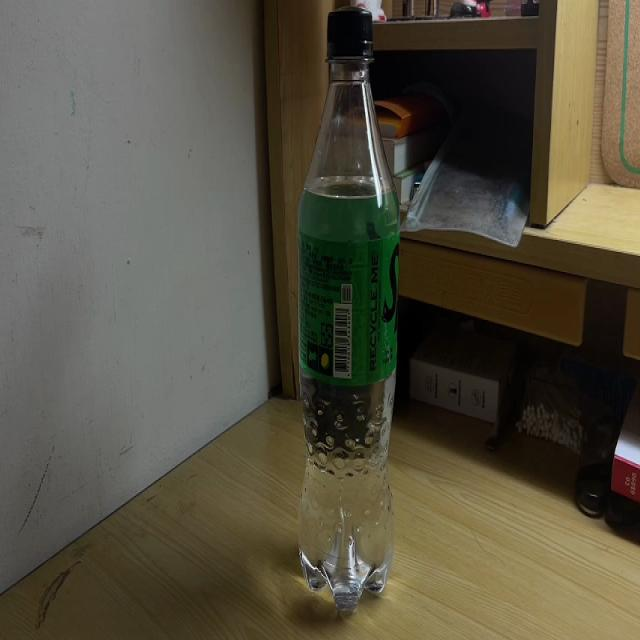Sprite: (295, 9, 402, 623)
